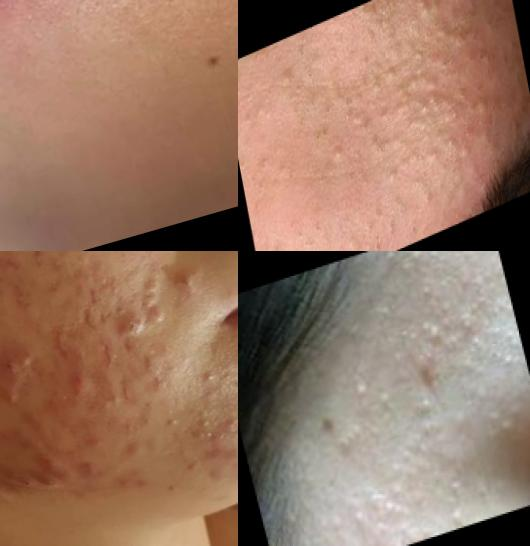blackhead: (460, 10, 497, 86), (290, 32, 329, 100), (249, 150, 282, 211), (426, 3, 450, 51), (287, 208, 311, 252), (404, 214, 425, 244), (310, 215, 328, 244), (313, 125, 327, 152)
papular: (42, 361, 98, 420), (401, 340, 454, 401), (133, 343, 182, 397), (108, 306, 151, 352), (178, 260, 222, 303), (47, 320, 89, 356), (113, 473, 154, 499), (94, 341, 122, 373), (75, 455, 98, 479)
sebo-crystan-conglo: (12, 449, 77, 499), (1, 344, 44, 413), (130, 267, 169, 309), (143, 297, 177, 336)
whitehead: (340, 472, 436, 546), (375, 128, 467, 198), (436, 461, 505, 529), (346, 93, 401, 169), (475, 382, 530, 450), (396, 80, 448, 151), (374, 252, 448, 293), (360, 51, 411, 108), (332, 426, 371, 476), (343, 363, 384, 406), (326, 129, 360, 176), (93, 385, 130, 417), (160, 402, 189, 437), (190, 400, 220, 433), (203, 367, 227, 397), (196, 426, 221, 448), (96, 270, 114, 293)
